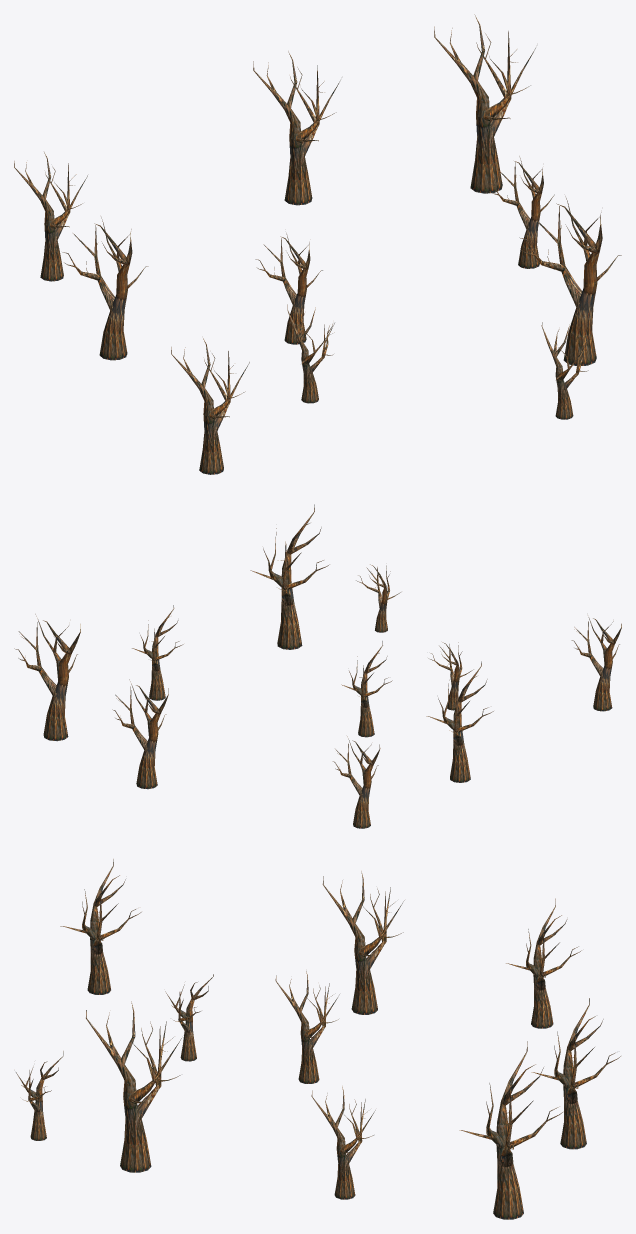
The model's file is material2.011_lev3.glb.
The picture shows the model from 3 angles, top to bottom: view 1: azimuth 30°, elevation 25°; view 2: azimuth 150°, elevation 25°; view 3: azimuth 270°, elevation 25°; orthographic projection. The views are drawn at different scales.
Visible parts, largest first — view 1: material2.011_lev3; view 2: material2.011_lev3; view 3: material2.011_lev3.
Boxes of the visible parts, bbox=[...] form: material2.011_lev3: bbox=[14, 14, 621, 474]; material2.011_lev3: bbox=[14, 504, 621, 828]; material2.011_lev3: bbox=[16, 859, 620, 1219].
Bounding box in the file's own units: 3.37 × 0.9537 × 3.33.
Materials: 1 (1 with a texture image).
